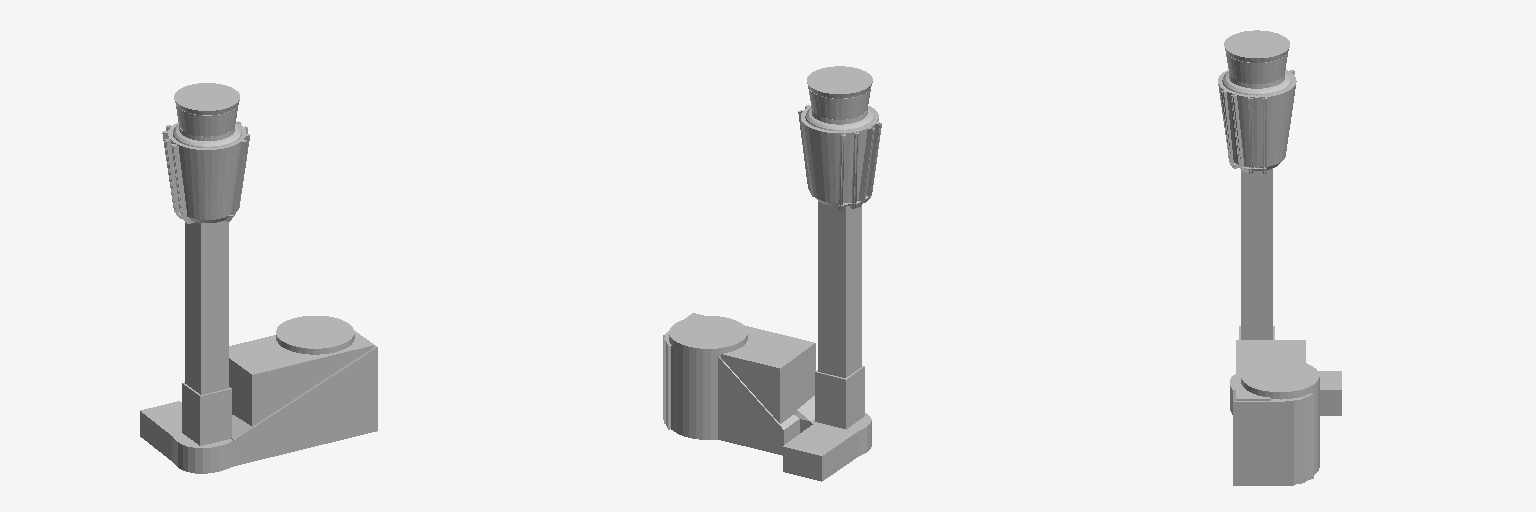
File: kphx_tower.obj
3 renders of one model, left to right at view 1: azimuth 30°, elevation 25°; view 2: azimuth 150°, elevation 25°; view 3: azimuth 270°, elevation 25°, orthographic.
Size of the model in its own units: 0.0008 by 0.0014 by 0.0004.